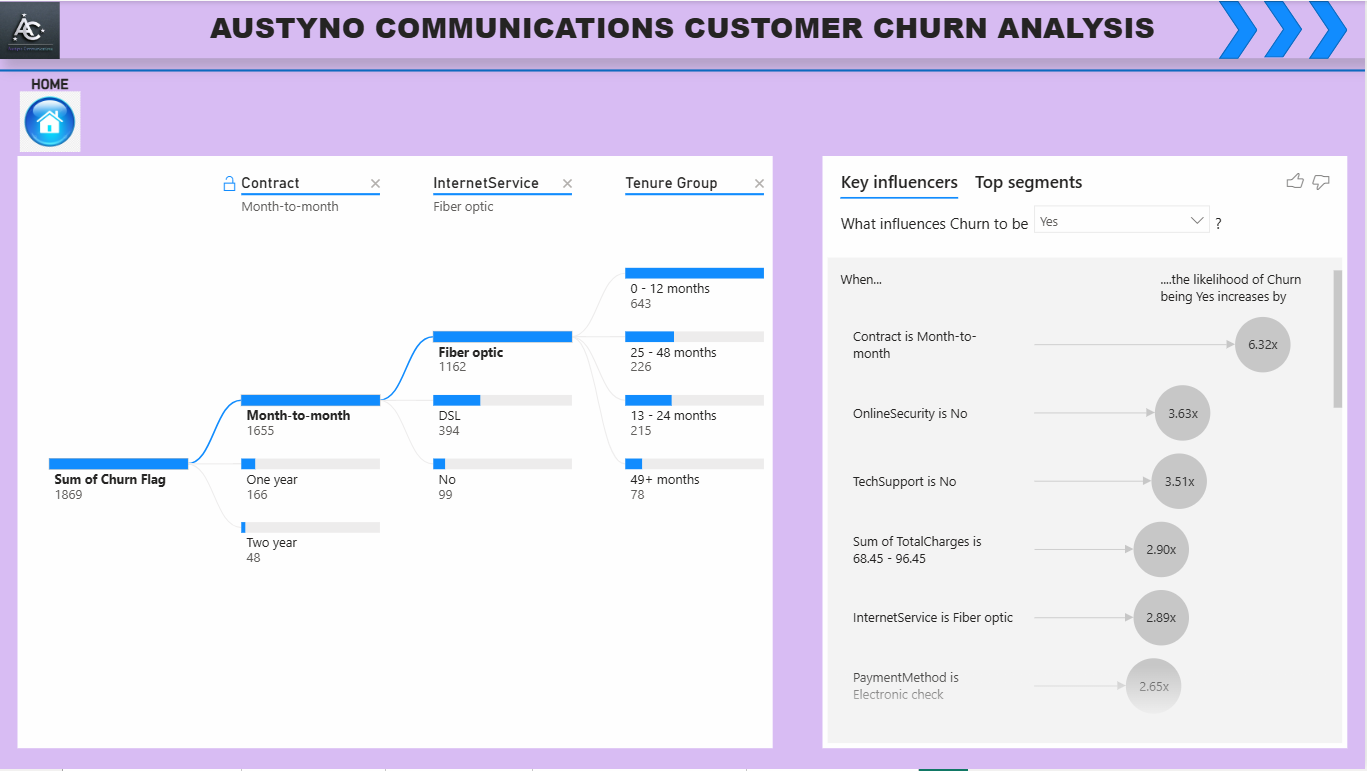

What the dashboard file says about the page in this screenshot:
{"tool":"powerbi","page":{"name":"Churn Drivers","canvas":[1280,720],"ordinal":1},"visuals":[{"type":"keyDriversVisual","fields":{"Target":["FactCustomerChurn.Churn"],"ExplainBy":["FactCustomerChurn.gender","FactCustomerChurn.SeniorCitizen","FactCustomerChurn.Partner","FactCustomerChurn.Dependents","Sum(FactCustomerChurn.tenure)","FactCustomerChurn.PhoneService","FactCustomerChurn.MultipleLines","FactCustomerChurn.InternetService","FactCustomerChurn.OnlineSecurity","FactCustomerChurn.OnlineBackup","FactCustomerChurn.DeviceProtection","FactCustomerChurn.TechSupport"]},"box":[771.1,145.3,492.2,555.5],"z":0},{"type":"decompositionTreeVisual","fields":{"Analyze":["Sum(FactCustomerChurn.Churn Flag)"],"ExplainBy":["FactCustomerChurn.Contract","FactCustomerChurn.InternetService","FactCustomerChurn.Tenure Group"]},"box":[16.4,145.3,707.8,555.5],"z":1000},{"type":"group","id":"g1","title":"Group 2","box":[0,0,1280.2,87.6],"z":2000},{"type":"image","title":"HOME","box":[8.2,70.3,77.3,71.5],"z":3000},{"type":"textbox","box":[0,0,1279.7,53.9],"z":7000,"group":"g1"},{"type":"image","box":[0,0,56.3,55.1],"z":9000,"group":"g1"},{"type":"shape","box":[1142.5,0,36.4,54.2],"z":10000,"group":"g1"},{"type":"shape","box":[1227.1,0,36.4,54.2],"z":11000,"group":"g1"},{"type":"shape","box":[1184.8,0,36.1,53.1],"z":12000,"group":"g1"},{"type":"shape","box":[0,41.7,1280.2,45.9],"z":13000,"group":"g1"}]}

Visuals, with their boxes in screenshot pixels (x1, y1, x2, y2), scaled from the page's 1280x720 canvas onto the 1367x771 screenshot:
keyDriversVisual - FactCustomerChurn.Churn x FactCustomerChurn.gender: {"x1": 824, "y1": 156, "x2": 1349, "y2": 750}
decompositionTreeVisual - Sum(FactCustomerChurn.Churn Flag) x FactCustomerChurn.Contract: {"x1": 18, "y1": 156, "x2": 773, "y2": 750}
"Group 2" group: {"x1": 0, "y1": 0, "x2": 1366, "y2": 94}
"HOME" image: {"x1": 9, "y1": 75, "x2": 91, "y2": 152}
textbox: {"x1": 0, "y1": 0, "x2": 1366, "y2": 58}
image: {"x1": 0, "y1": 0, "x2": 60, "y2": 59}
shape: {"x1": 1220, "y1": 0, "x2": 1259, "y2": 58}
shape: {"x1": 1311, "y1": 0, "x2": 1349, "y2": 58}
shape: {"x1": 1265, "y1": 0, "x2": 1304, "y2": 57}
shape: {"x1": 0, "y1": 45, "x2": 1366, "y2": 94}
